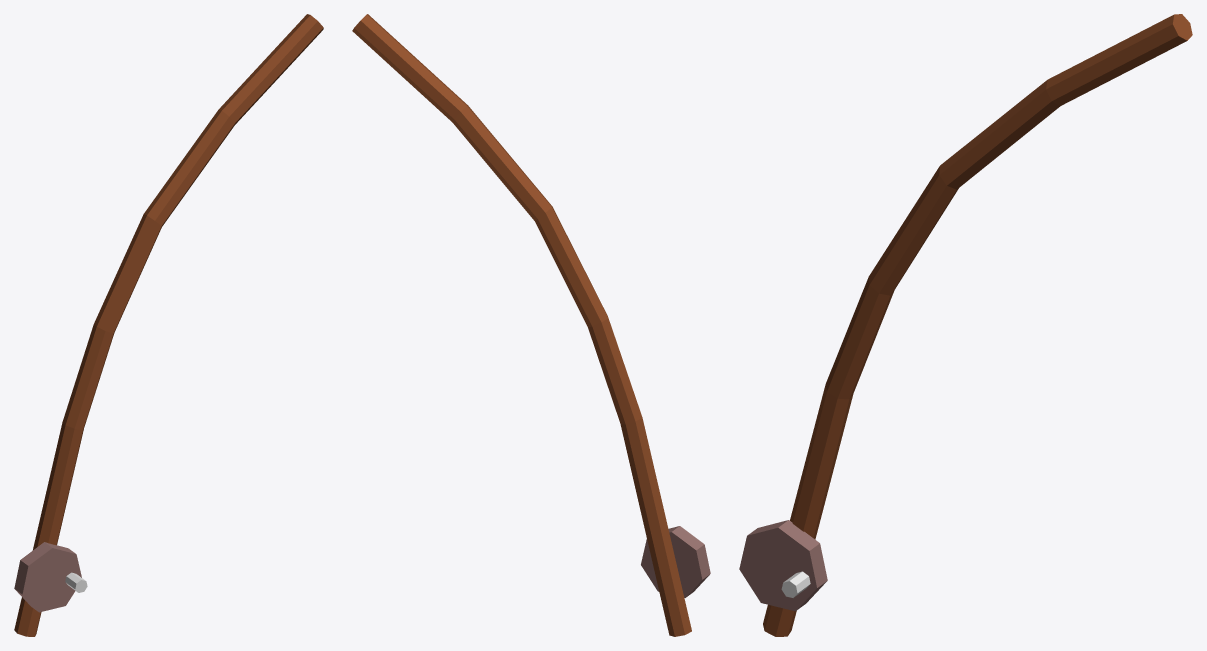
The model's file is FishingRod.gltf.
The picture shows the model from 3 angles, left to right: view 1: azimuth 30°, elevation 25°; view 2: azimuth 150°, elevation 25°; view 3: azimuth 330°, elevation 25°; orthographic projection. The views are drawn at different scales.
Parts seen in each view (by area): view 1: Cylinder, Cylinder.001; view 2: Cylinder, Cylinder.001; view 3: Cylinder, Cylinder.001.
Part boxes in pixels (x1,y1,x2,y2): Cylinder: (14, 14, 323, 636); Cylinder.001: (14, 542, 81, 612); Cylinder: (352, 14, 691, 636); Cylinder.001: (641, 526, 710, 597); Cylinder: (763, 14, 1192, 636); Cylinder.001: (739, 520, 827, 611).
Size of the model in its own units: 5.75 by 9.19 by 1.24.
